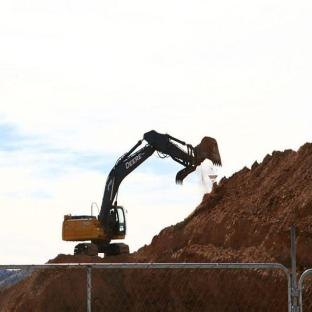ExcavationMachinery: (53, 128, 227, 256)
